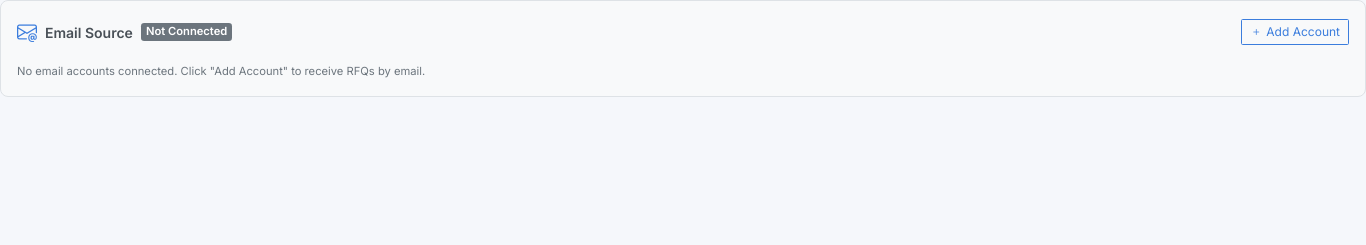
Test: ProcurementEmailWidget multi-account › 7. clicking "Cancel" in the form hides it
Click the button "Add Account": (1295, 32) [1241,19,1349,45]
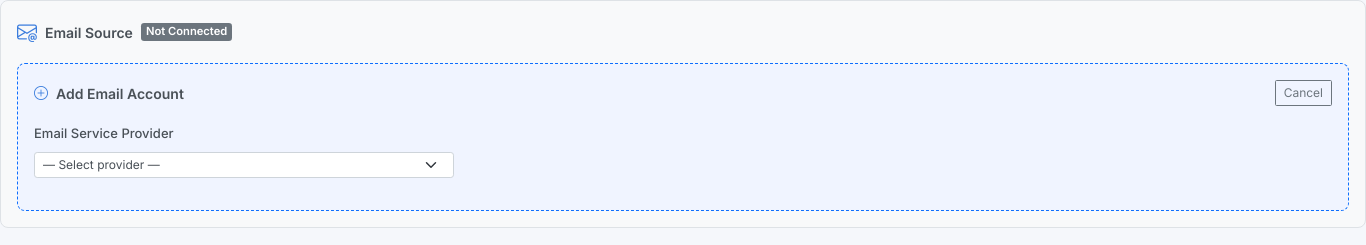
Result: the text "Email Service Provider" is shown at [34,124,174,144]
Click the button "Cancel": (1303, 93) [1275,80,1332,106]
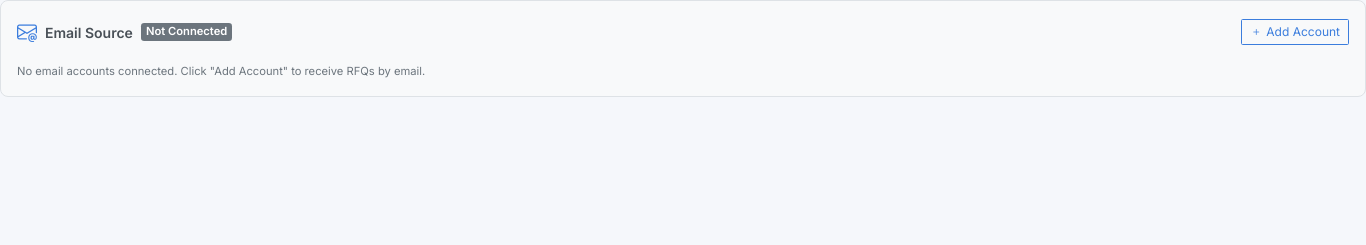
Result: the text "Email Service Provider" is gone
